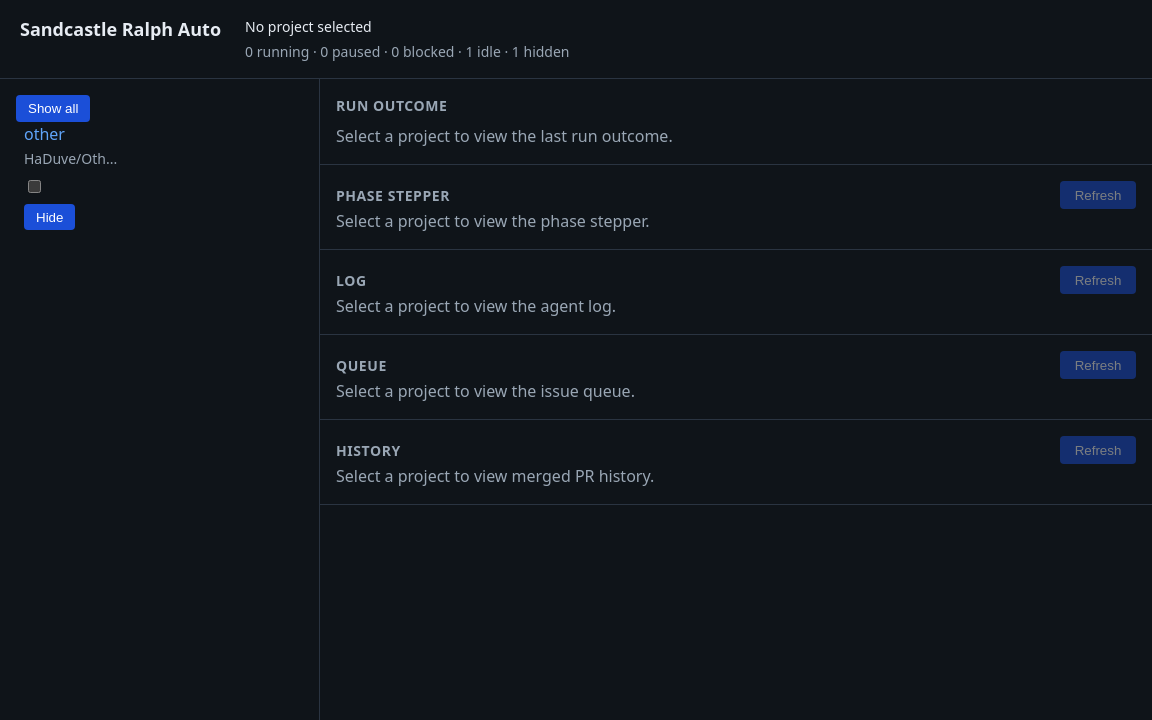
Test: App › restores hidden projects when Show all is clicked
The width and height of the screenshot is (1152, 720).
Click the button with aria-label "show all hidden projects" at (53, 108), box x1=16 y1=95 x2=90 y2=122
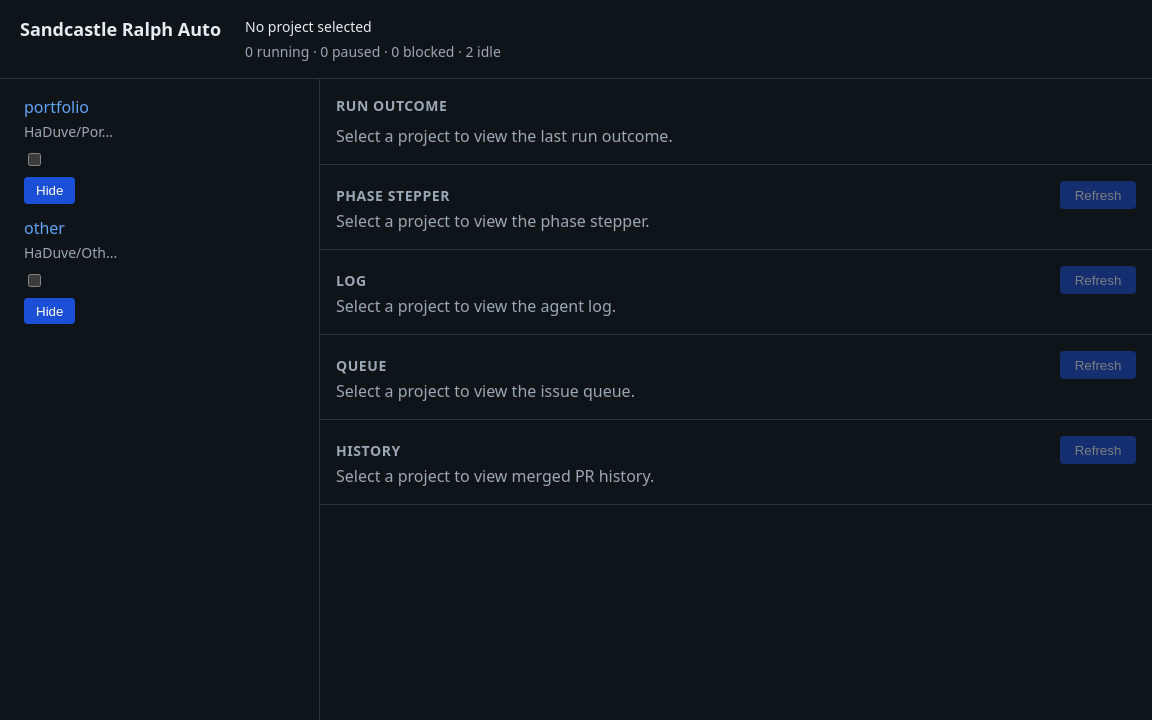
Check: the checkbox named "portfolio" is shown, box x1=28 y1=153 x2=41 y2=166
